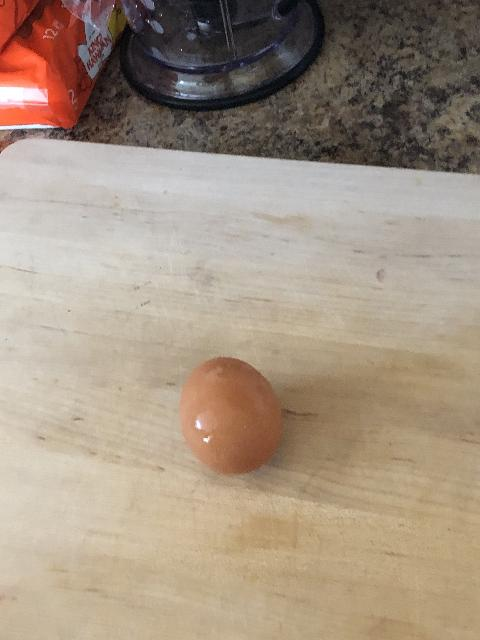Sano: (177, 354, 284, 476)
